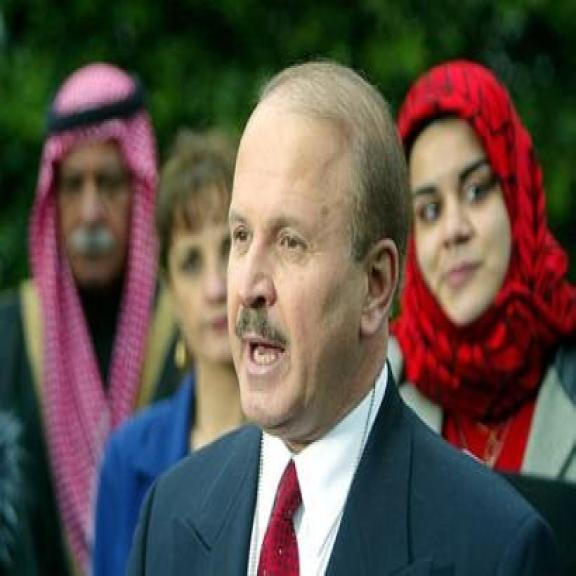face: (229, 117, 402, 426), (412, 110, 517, 332), (155, 205, 241, 370), (55, 145, 133, 303)
